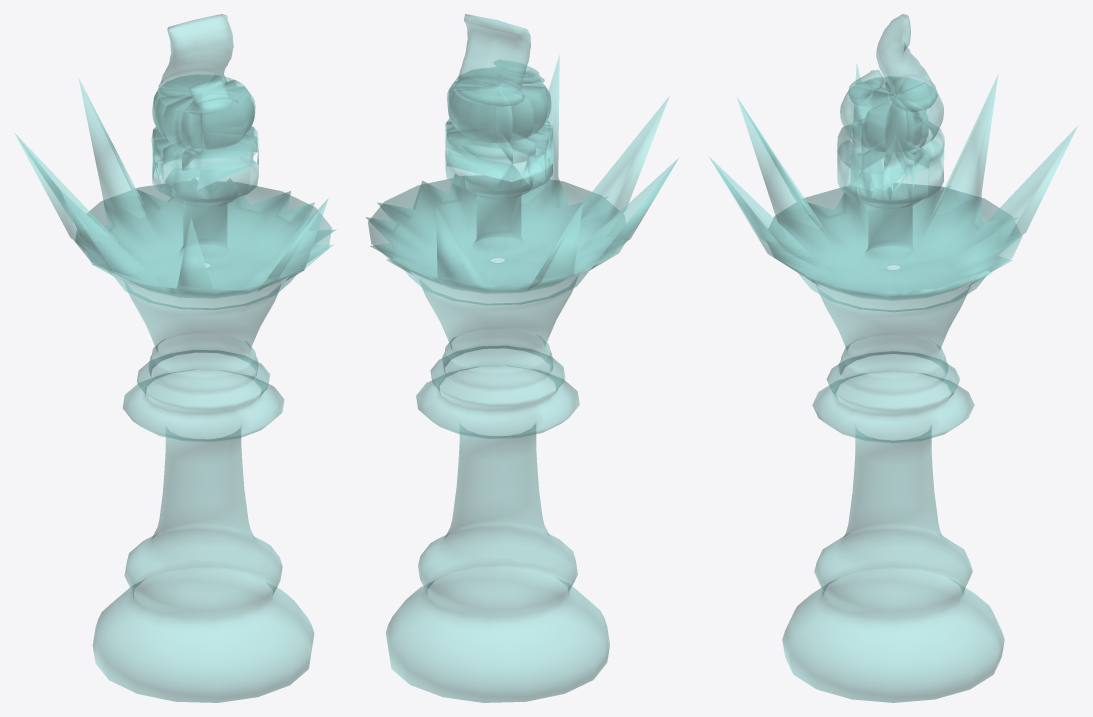
Rendered from Rei Branco.fbx.
3 renders of one model, left to right at view 1: azimuth 30°, elevation 25°; view 2: azimuth 150°, elevation 25°; view 3: azimuth 270°, elevation 25°, orthographic.
Parts seen in each view (by area): view 1: Cylinder.000; view 2: Cylinder.000; view 3: Cylinder.000.
Boxes of the visible parts, x1=… form: Cylinder.000: x1=15, y1=14, x2=336, y2=702; Cylinder.000: x1=365, y1=14, x2=678, y2=702; Cylinder.000: x1=709, y1=14, x2=1077, y2=702.
Bounding box in the file's own units: 54.31 × 119 × 63.27.
